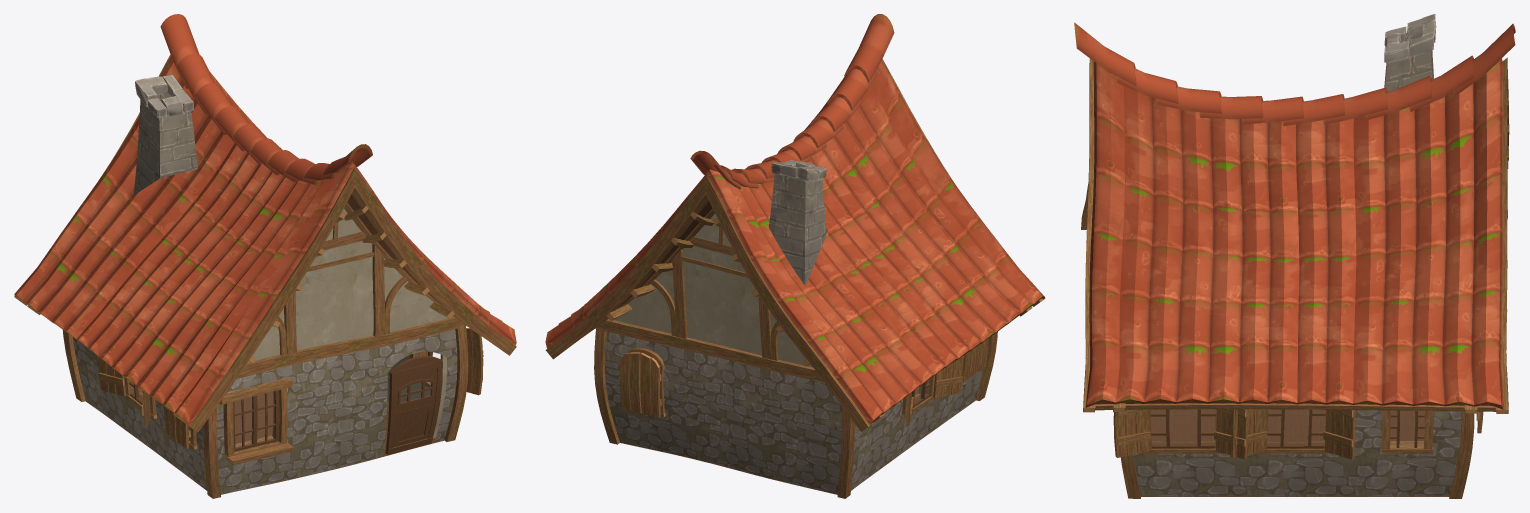
The picture shows the model from 3 angles, left to right: view 1: azimuth 30°, elevation 25°; view 2: azimuth 150°, elevation 25°; view 3: azimuth 270°, elevation 25°; orthographic projection. The views are drawn at different scales.
Visible parts, largest first — view 1: H03; view 2: H03; view 3: H03.
Boxes of the visible parts, x1,y1,x2,y2 form: H03: (14,14,516,498); H03: (545,14,1045,498); H03: (1074,14,1515,498).
Size of the model in its own units: 8.79 by 8.5 by 8.27.
Materials: 33 (29 with a texture image).
